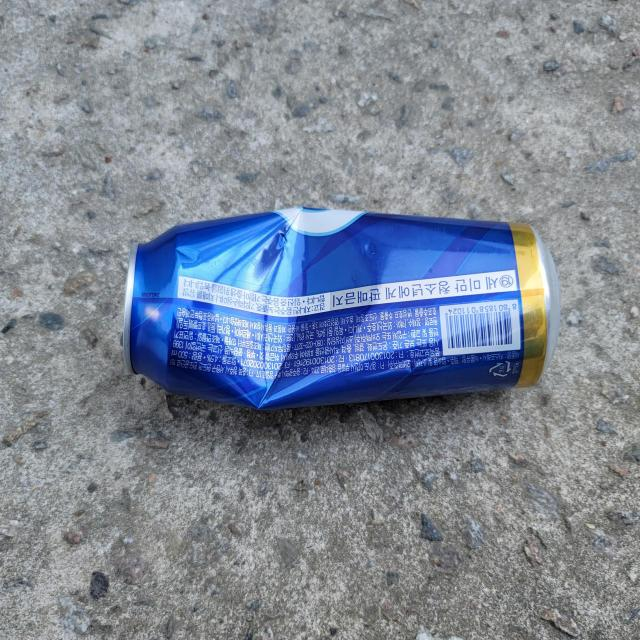can: (122, 207, 561, 409)
